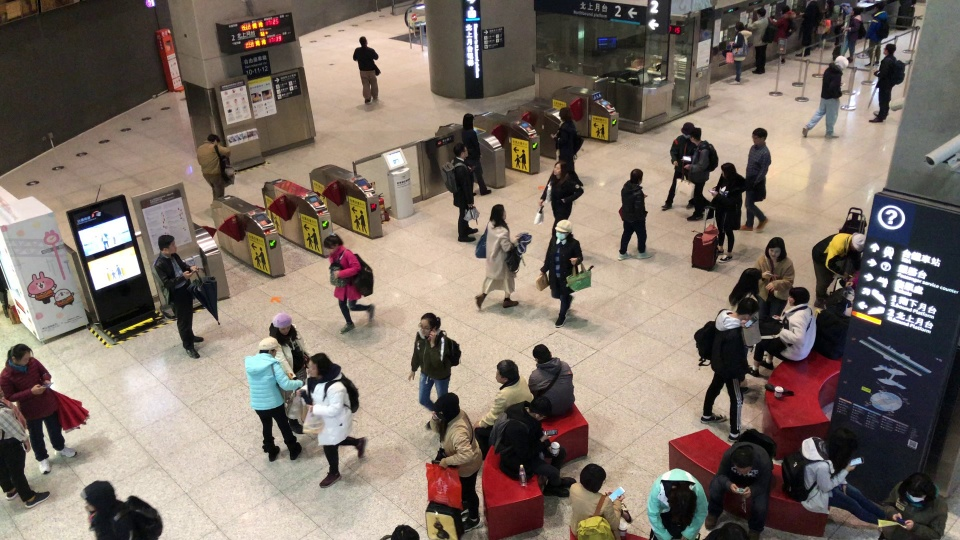person_head: (80, 480, 115, 511), (829, 427, 857, 461), (579, 463, 607, 492), (905, 473, 932, 502), (434, 393, 460, 419), (670, 489, 696, 515), (731, 447, 754, 475), (528, 395, 552, 420), (738, 267, 761, 293), (494, 359, 518, 383), (7, 343, 33, 365), (418, 312, 441, 336), (764, 236, 787, 260), (735, 297, 759, 320), (719, 522, 748, 540), (308, 353, 328, 378), (257, 337, 279, 358), (391, 524, 419, 540), (272, 313, 292, 335), (788, 287, 811, 306), (157, 234, 177, 254), (532, 343, 552, 363), (322, 233, 342, 252), (554, 219, 572, 240), (851, 232, 866, 253), (489, 204, 507, 221), (750, 127, 768, 144), (720, 162, 736, 177), (834, 55, 849, 71), (689, 127, 702, 144), (453, 143, 468, 157), (552, 160, 566, 175), (630, 168, 643, 184), (559, 107, 572, 122), (681, 122, 694, 137), (462, 113, 474, 129), (883, 43, 896, 56), (207, 134, 220, 143), (734, 21, 744, 31), (756, 8, 766, 18), (358, 35, 367, 46), (850, 7, 861, 16), (781, 5, 791, 14), (873, 3, 884, 10), (826, 0, 835, 7)
person_vbox: (781, 426, 886, 524), (0, 343, 77, 474), (295, 352, 366, 488), (693, 297, 759, 443), (488, 394, 576, 499), (425, 392, 484, 532), (704, 428, 776, 540), (244, 337, 302, 462), (151, 234, 204, 359), (745, 286, 817, 377), (472, 359, 533, 460), (0, 397, 50, 509), (406, 312, 461, 411), (322, 233, 375, 334), (80, 479, 163, 540), (753, 237, 795, 355), (568, 463, 633, 539), (473, 204, 519, 309), (877, 472, 947, 540), (539, 219, 583, 326), (647, 467, 708, 540), (728, 267, 762, 395), (811, 233, 867, 310), (801, 55, 849, 140), (440, 143, 479, 241), (527, 343, 575, 418), (738, 127, 772, 232), (710, 163, 746, 262), (537, 160, 583, 237), (685, 127, 718, 221), (617, 168, 651, 259), (660, 122, 695, 210), (867, 42, 905, 122), (268, 313, 310, 384), (461, 112, 491, 196), (196, 133, 231, 201), (550, 106, 583, 171), (352, 35, 381, 104), (747, 7, 776, 73), (768, 5, 796, 66), (864, 2, 889, 66), (794, 0, 822, 56), (729, 21, 753, 84), (840, 6, 866, 63), (825, 1, 852, 48)
